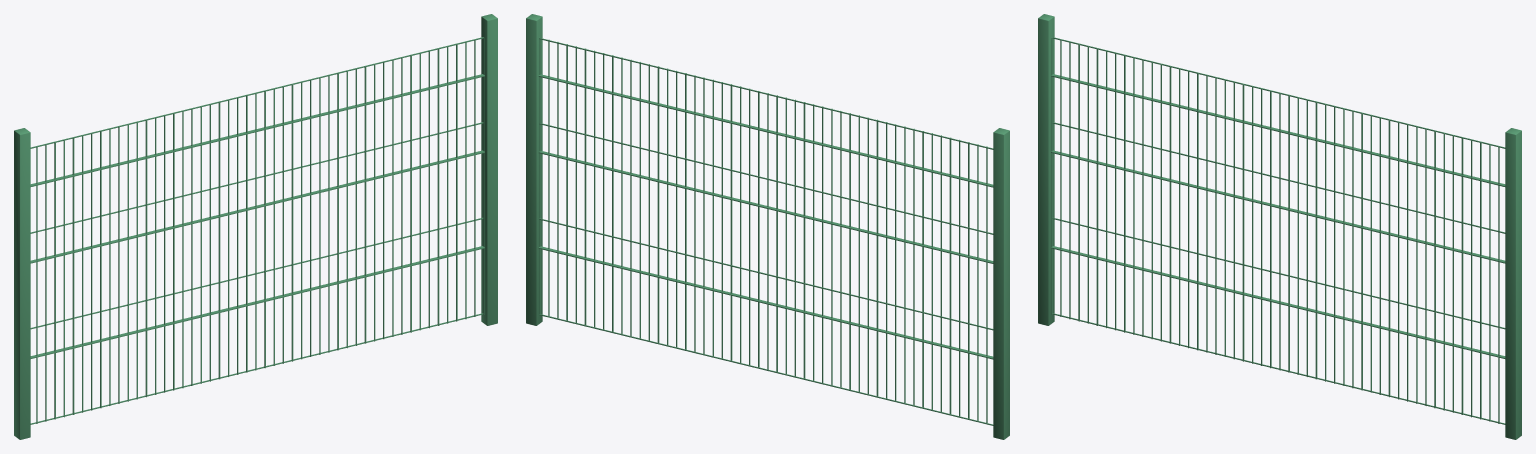
The model's file is ESQ-SER-002.glb.
3 renders of one model, left to right at view 1: azimuth 30°, elevation 25°; view 2: azimuth 150°, elevation 25°; view 3: azimuth 330°, elevation 25°, orthographic.
Parts seen in each view (by area): view 1: ESQ-SER-002_poste_e, ESQ-SER-002_poste_d, ESQ-SER-002_dobra0.4, ESQ-SER-002_dobra0.9, ESQ-SER-002_dobra1.3, ESQ-SER-002_fio_h1.495, ESQ-SER-002_fio_h0.05, ESQ-SER-002_fio_h1.05, ESQ-SER-002_fio_h0.55, ESQ-SER-002_fio_v29, ESQ-SER-002_fio_v5, ESQ-SER-002_fio_v13 (+47 smaller); view 2: ESQ-SER-002_poste_e, ESQ-SER-002_poste_d, ESQ-SER-002_dobra0.4, ESQ-SER-002_dobra1.3, ESQ-SER-002_dobra0.9, ESQ-SER-002_fio_h1.495, ESQ-SER-002_fio_h0.05, ESQ-SER-002_fio_h1.05, ESQ-SER-002_fio_h0.55, ESQ-SER-002_fio_v5, ESQ-SER-002_fio_v29, ESQ-SER-002_fio_v37 (+47 smaller); view 3: ESQ-SER-002_poste_d, ESQ-SER-002_poste_e, ESQ-SER-002_dobra0.4, ESQ-SER-002_dobra0.9, ESQ-SER-002_dobra1.3, ESQ-SER-002_fio_h1.495, ESQ-SER-002_fio_h0.05, ESQ-SER-002_fio_h1.05, ESQ-SER-002_fio_h0.55, ESQ-SER-002_fio_v21, ESQ-SER-002_fio_v13, ESQ-SER-002_fio_v29 (+47 smaller).
Part boxes in pixels (x1,y1,x2,y2): ESQ-SER-002_poste_e: (14, 128, 30, 439); ESQ-SER-002_poste_d: (481, 14, 497, 325); ESQ-SER-002_dobra0.4: (30, 246, 484, 358); ESQ-SER-002_dobra0.9: (30, 150, 484, 263); ESQ-SER-002_dobra1.3: (30, 74, 484, 186); ESQ-SER-002_fio_h1.495: (30, 37, 483, 148); ESQ-SER-002_fio_h0.05: (30, 313, 483, 424); ESQ-SER-002_fio_h1.05: (30, 122, 483, 233); ESQ-SER-002_fio_h0.55: (30, 217, 483, 329); ESQ-SER-002_fio_v29: (291, 84, 293, 361); ESQ-SER-002_fio_v5: (72, 137, 74, 414); ESQ-SER-002_fio_v13: (145, 119, 147, 397); ESQ-SER-002_poste_e: (993, 128, 1009, 439); ESQ-SER-002_poste_d: (526, 14, 542, 325); ESQ-SER-002_dobra0.4: (538, 246, 993, 359); ESQ-SER-002_dobra1.3: (538, 74, 993, 187); ESQ-SER-002_dobra0.9: (538, 151, 993, 263); ESQ-SER-002_fio_h1.495: (539, 38, 993, 149); ESQ-SER-002_fio_h0.05: (539, 314, 993, 425); ESQ-SER-002_fio_h1.05: (539, 123, 993, 234); ESQ-SER-002_fio_h0.55: (539, 218, 993, 330); ESQ-SER-002_fio_v5: (949, 137, 951, 413); ESQ-SER-002_fio_v29: (730, 84, 732, 360); ESQ-SER-002_fio_v37: (657, 66, 659, 342); ESQ-SER-002_poste_d: (1505, 128, 1521, 439); ESQ-SER-002_poste_e: (1038, 14, 1054, 325); ESQ-SER-002_dobra0.4: (1051, 246, 1505, 358); ESQ-SER-002_dobra0.9: (1051, 150, 1505, 263); ESQ-SER-002_dobra1.3: (1051, 74, 1505, 186); ESQ-SER-002_fio_h1.495: (1052, 37, 1505, 148); ESQ-SER-002_fio_h0.05: (1052, 313, 1505, 424); ESQ-SER-002_fio_h1.05: (1052, 122, 1505, 233); ESQ-SER-002_fio_h0.55: (1052, 217, 1505, 329); ESQ-SER-002_fio_v21: (1242, 84, 1244, 361); ESQ-SER-002_fio_v13: (1169, 66, 1171, 343); ESQ-SER-002_fio_v29: (1315, 102, 1317, 379).
Bounding box in the file's own units: 2.62 × 1.6 × 0.06.
